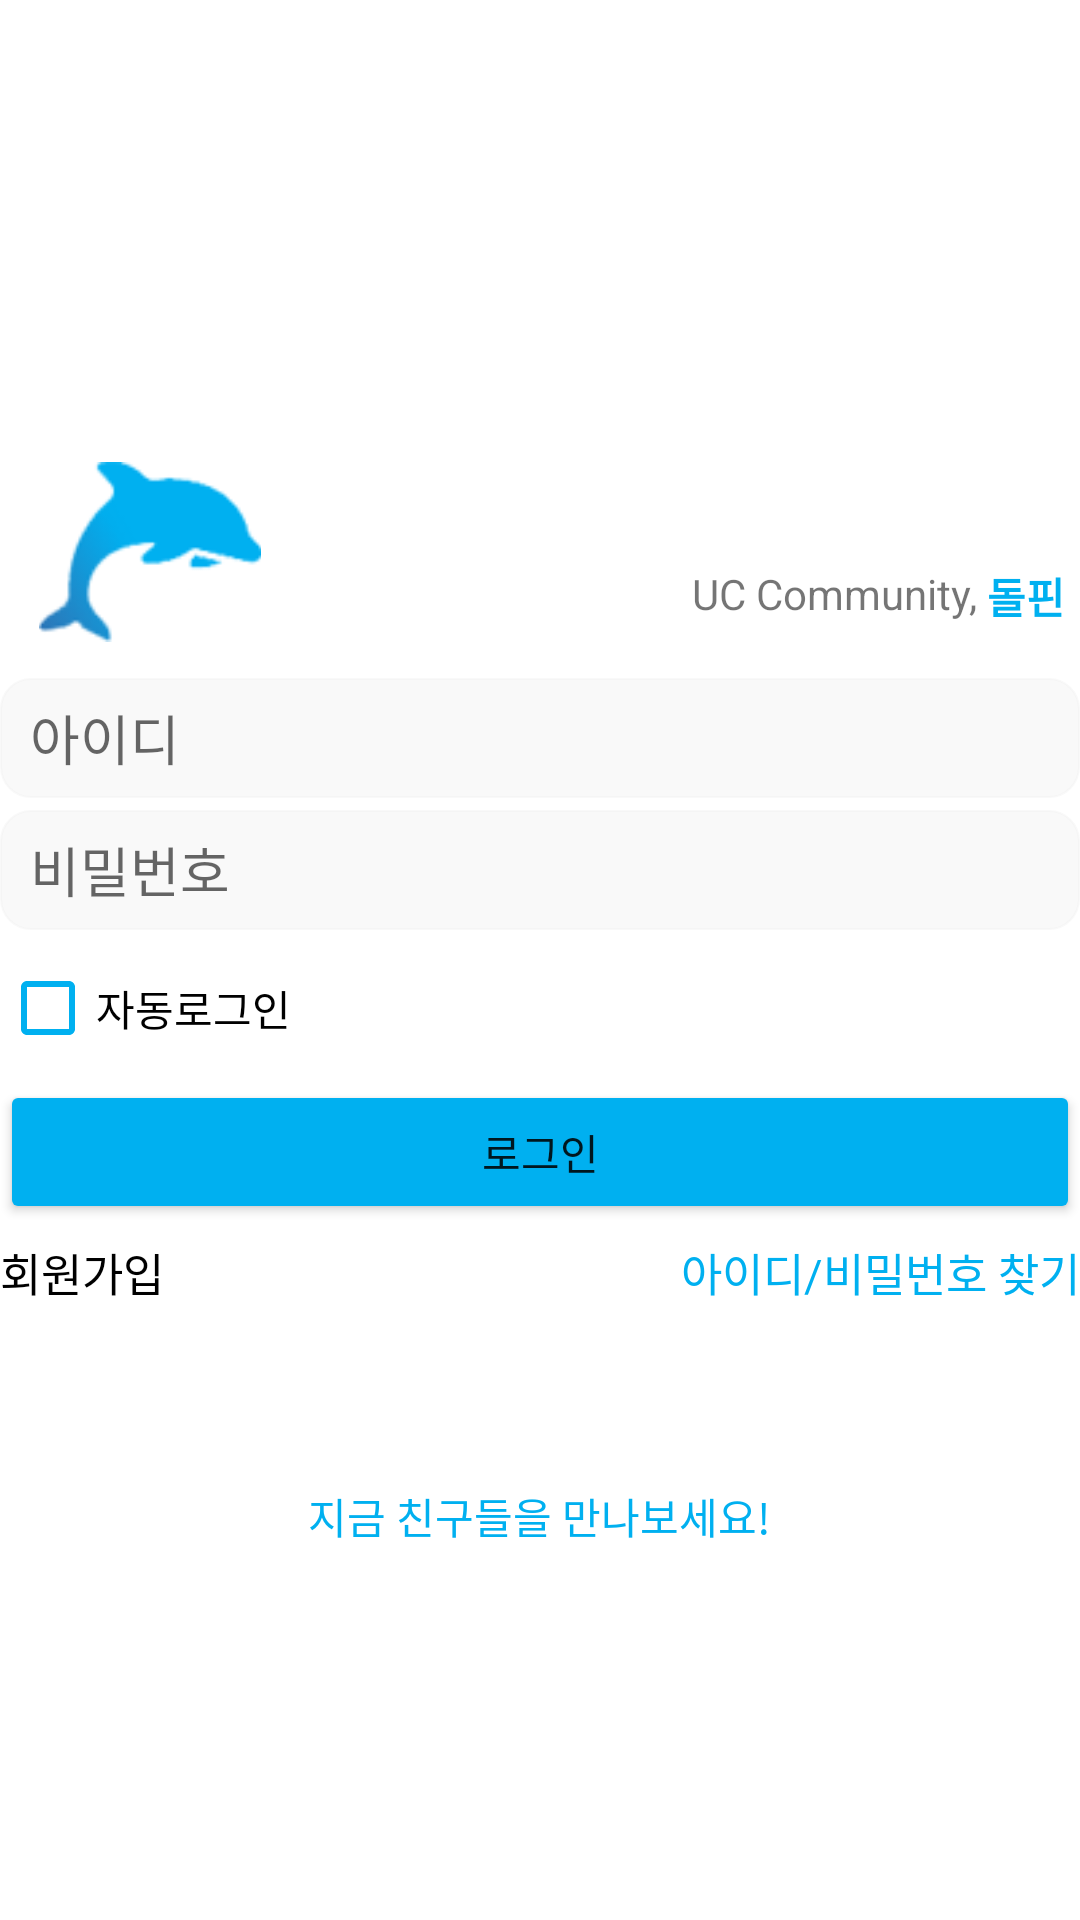

Point at icon controls on the screen. Image size 1080*1920, points as [x,y].
dolphins: [150,552]
